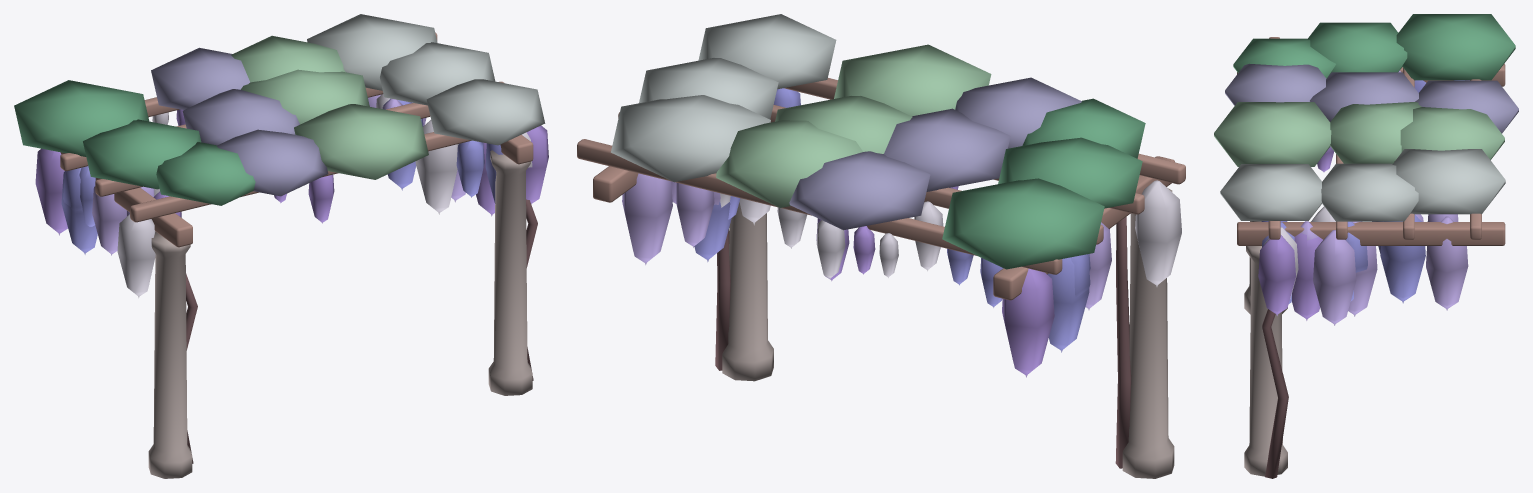
File: wisteria_bay.glb
The picture shows the model from 3 angles, left to right: view 1: azimuth 30°, elevation 25°; view 2: azimuth 150°, elevation 25°; view 3: azimuth 270°, elevation 25°; orthographic projection. The views are drawn at different scales.
Parts seen in each view (by area): view 1: wisteria_bay; view 2: wisteria_bay; view 3: wisteria_bay.
Part boxes in pixels (x1=…): wisteria_bay: x1=14, y1=14, x2=548, y2=478; wisteria_bay: x1=577, y1=14, x2=1185, y2=478; wisteria_bay: x1=1214, y1=14, x2=1518, y2=478.
Size of what is drawn, in the model's own units: 5.75 by 3.82 by 3.64.
